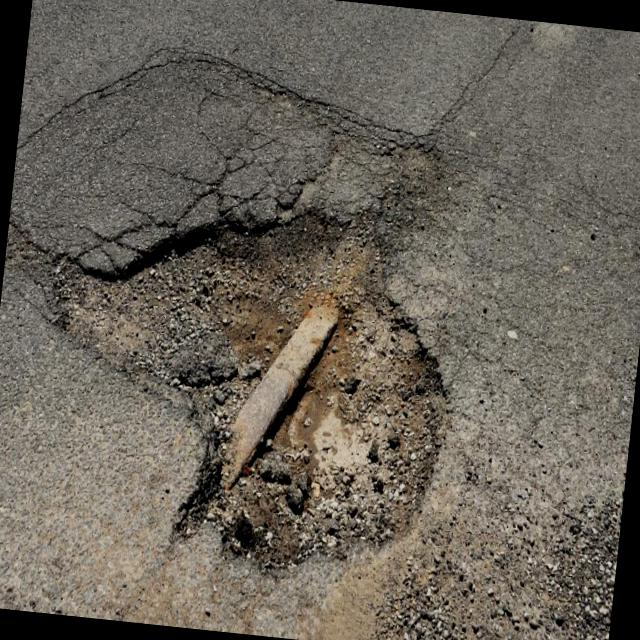bad-road: (19, 178, 472, 596)
